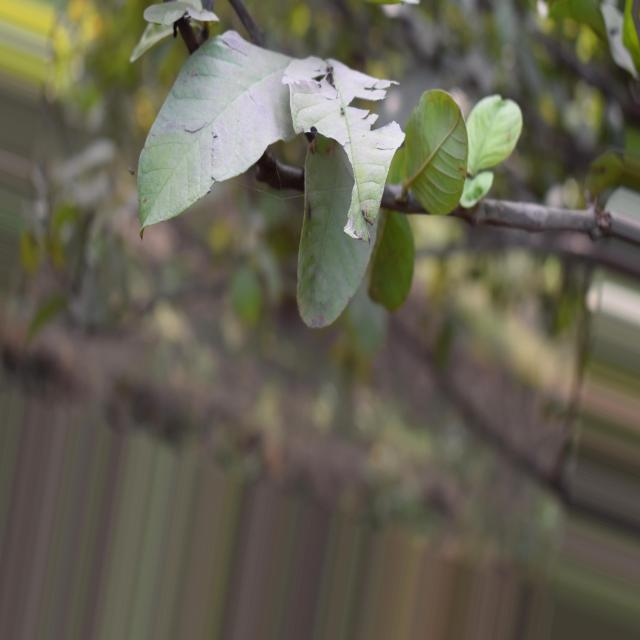Dot: (145, 30, 295, 219), (282, 56, 405, 242), (298, 135, 376, 328)
